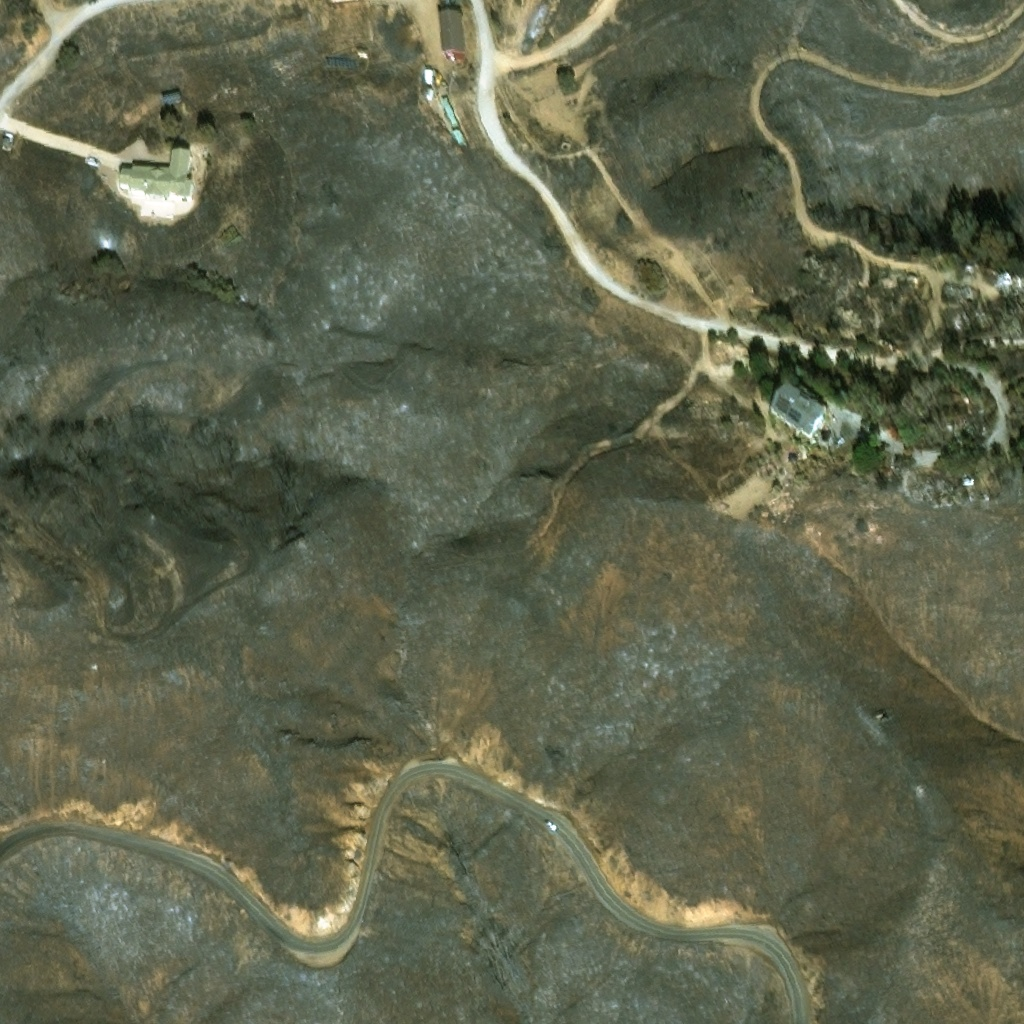0 no-damage: (769, 386, 837, 447), (117, 151, 194, 204), (436, 0, 465, 55), (440, 95, 457, 123), (450, 127, 465, 143), (161, 92, 180, 101), (1, 135, 11, 148), (424, 66, 431, 79), (354, 42, 364, 51), (425, 86, 432, 96)
3 destroyed: (997, 269, 1023, 309), (923, 471, 945, 492), (107, 589, 127, 607), (970, 491, 990, 503)
